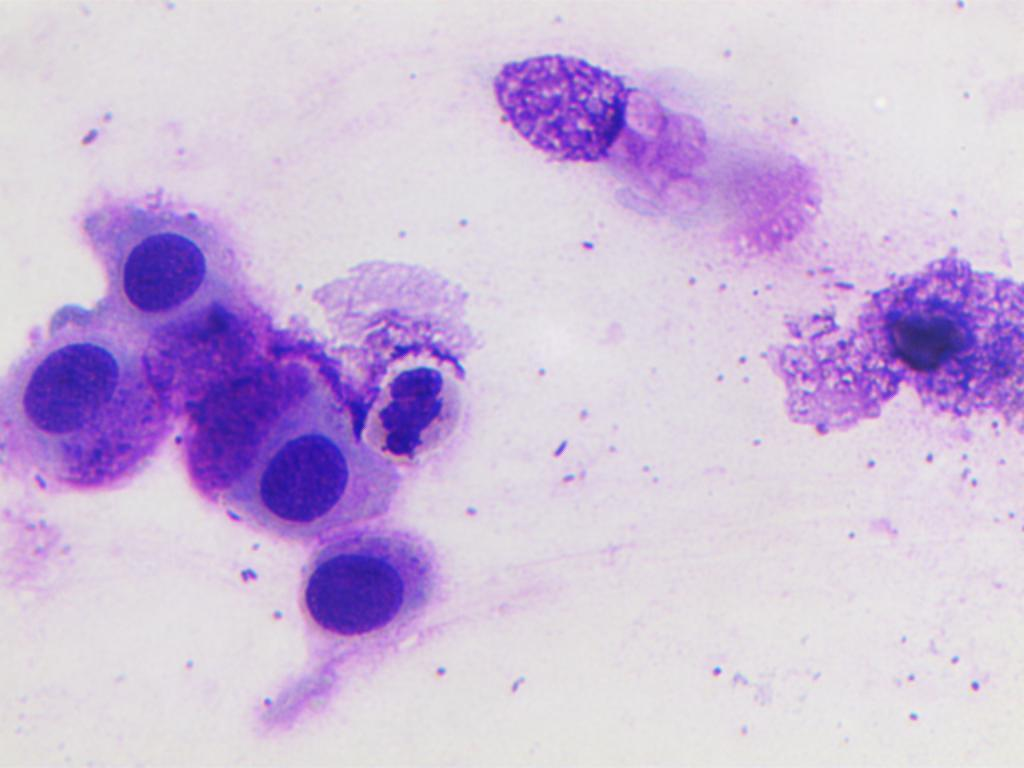ciliated: (471, 38, 826, 263)
epithelial: (194, 368, 362, 533), (266, 536, 426, 651), (17, 335, 121, 437), (112, 225, 212, 317)
neutrophil: (361, 343, 475, 475)
